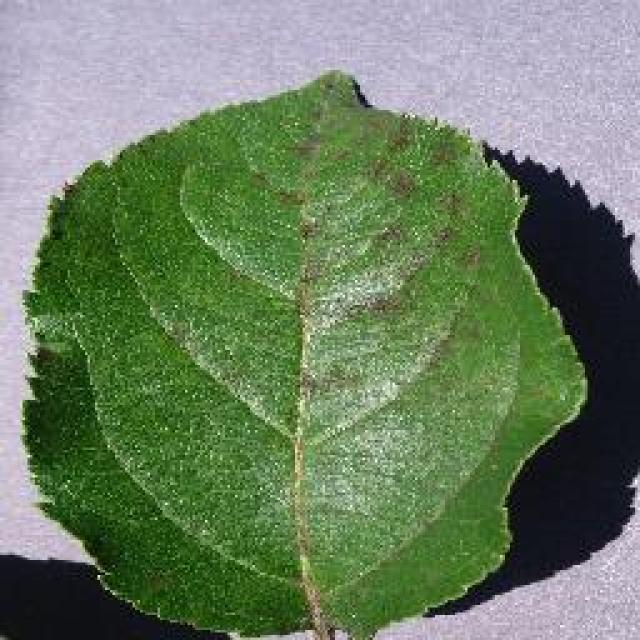apple scab disease: (18, 65, 590, 637)
